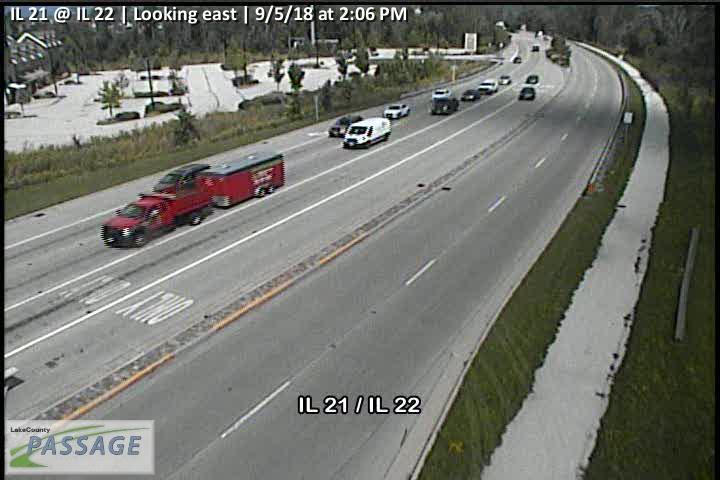SUV: (343, 117, 392, 149), (329, 114, 363, 138), (431, 96, 459, 115), (478, 78, 498, 95)
Sedan: (383, 104, 411, 120), (460, 89, 481, 102), (431, 88, 453, 100), (518, 87, 536, 100), (499, 75, 511, 85), (526, 75, 539, 83)
Truck: (100, 150, 286, 248)
